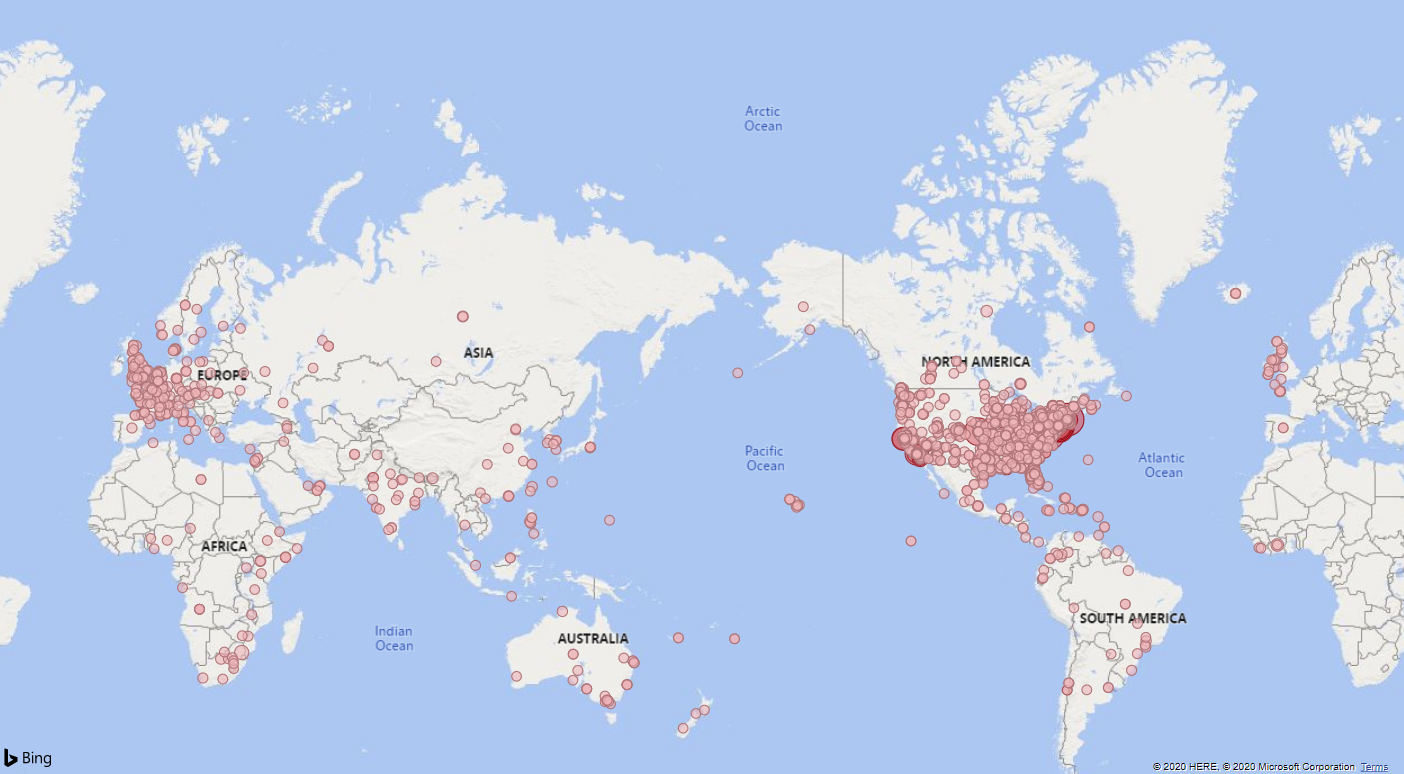

The dashboard page shown, as its layout file describes it:
{"tool":"powerbi","page":{"name":"Page 1","canvas":[1280,720],"ordinal":0},"visuals":[{"type":"map","fields":{"Category":["adited location counts.Location"],"Size":["Sum(adited location counts.Count)"]},"box":[9.7,0,1270.3,720.2],"z":0}]}

Visuals, with their boxes in screenshot pixels (x1, y1, x2, y2), scaled from the page's 1280x720 canvas onto the 1404x774 screenshot:
map - adited location counts.Location x Sum(adited location counts.Count): detection(11, 0, 1403, 773)
